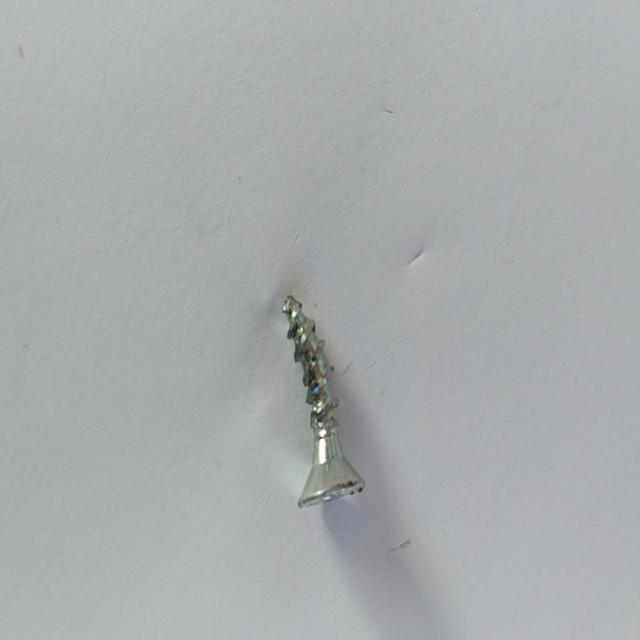Screw: (283, 295, 365, 507)
